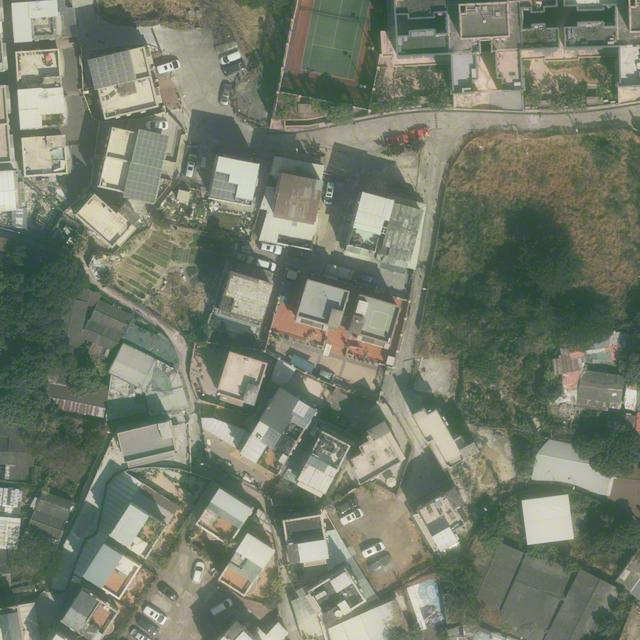SolarPanel: (88, 50, 136, 91), (123, 162, 162, 204), (131, 130, 168, 168), (209, 179, 238, 201), (213, 171, 230, 182)
